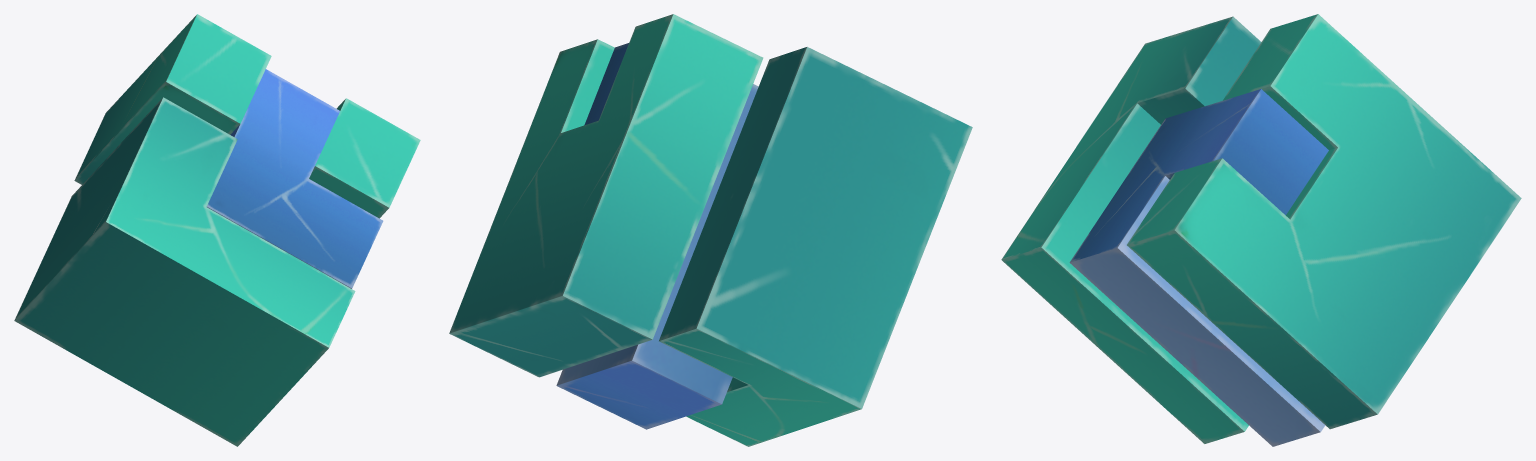
Rendered from judian_4.FBX.
3 renders of one model, left to right at view 1: azimuth 30°, elevation 25°; view 2: azimuth 150°, elevation 25°; view 3: azimuth 270°, elevation 25°, orthographic. The views are drawn at different scales.
Parts seen in each view (by area): view 1: judian_4; view 2: judian_4; view 3: judian_4.
Boxes of the visible parts, x1=… form: judian_4: x1=14, y1=14, x2=420, y2=446; judian_4: x1=449, y1=14, x2=972, y2=446; judian_4: x1=1001, y1=14, x2=1521, y2=446.
Size of the model in its own units: 40.01 by 45.77 by 49.5.
